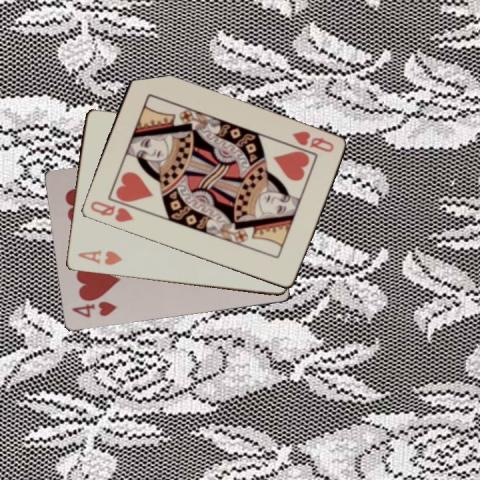4h: (69, 300, 118, 320)
Ah: (75, 247, 123, 267)
Qh: (87, 198, 135, 224), (288, 128, 334, 154)
